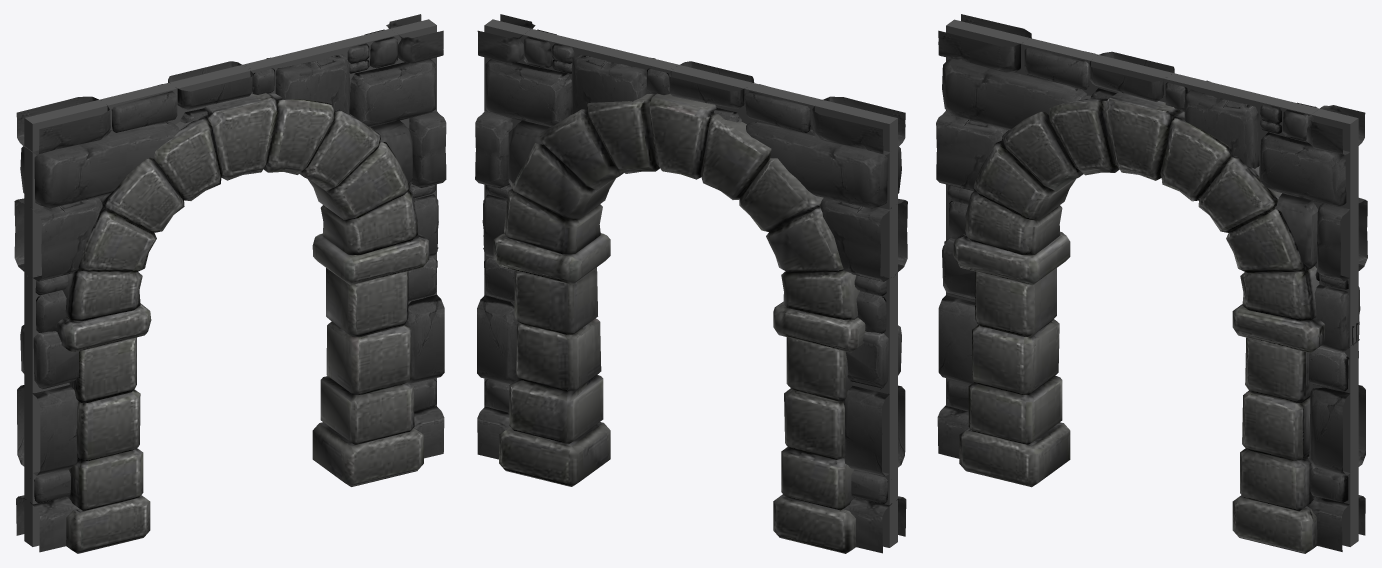
Rendered from Arch_04.fbx.
The picture shows the model from 3 angles, left to right: view 1: azimuth 30°, elevation 25°; view 2: azimuth 150°, elevation 25°; view 3: azimuth 330°, elevation 25°; orthographic projection.
Visible parts, largest first — view 1: Archway_04; view 2: Archway_04; view 3: Archway_04.
Part boxes in pixels (x1,y1,x2,y2): Archway_04: [14, 14, 446, 553]; Archway_04: [475, 14, 907, 553]; Archway_04: [936, 14, 1367, 553].
Size of the model in its own units: 302 by 304 by 49.25.
